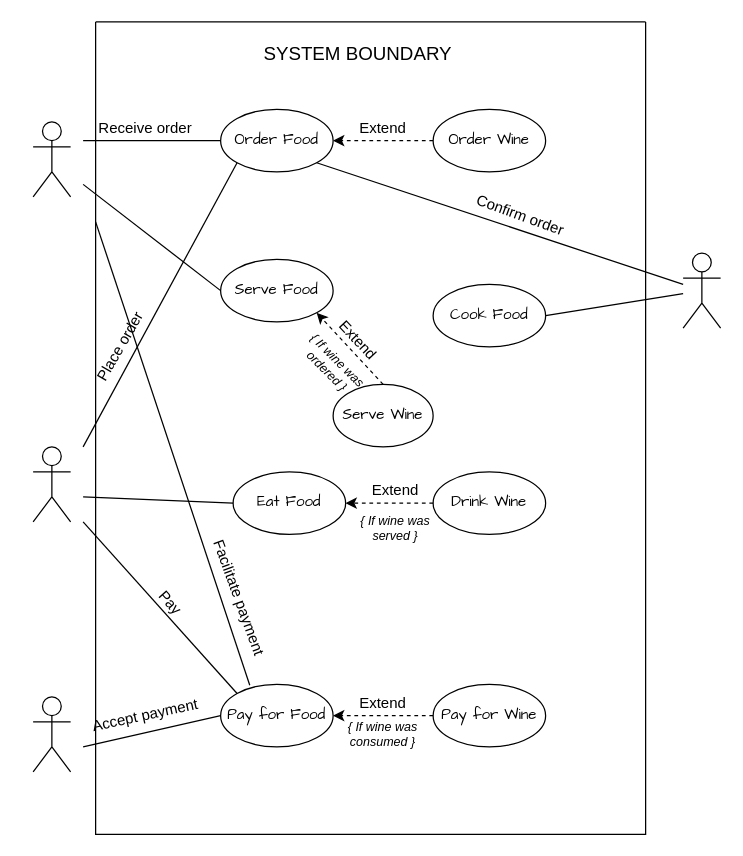
Image size: 743x856. Some labels were removed from this diagram. Here are the shapes that lost their labels. From the top down, the box of each, then its label:
(32, 121, 71, 197): WAITER
(682, 252, 721, 328): CHEF
(32, 446, 71, 522): CLIENT
(32, 696, 71, 772): CASHIER
